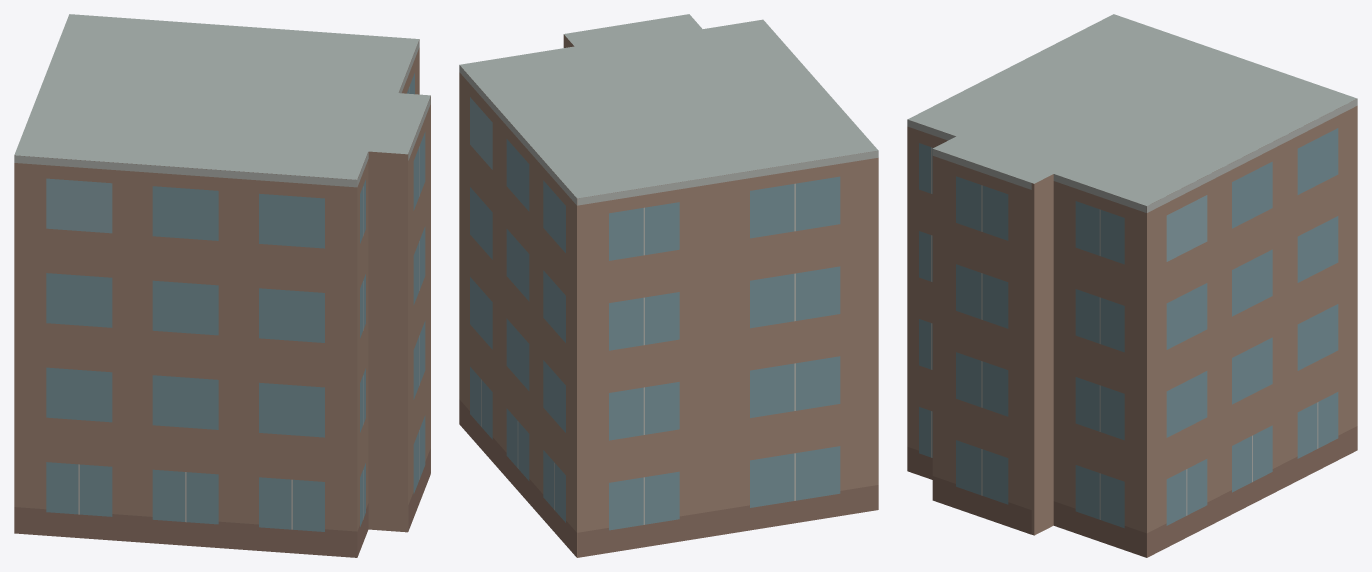
File: survey-upis-32609064.glb
3 renders of one model, left to right at view 1: azimuth 30°, elevation 25°; view 2: azimuth 150°, elevation 25°; view 3: azimuth 270°, elevation 25°, orthographic. The views are drawn at different scales.
Parts seen in each view (by area): view 1: survey-upis-32609064.tmp; view 2: survey-upis-32609064.tmp; view 3: survey-upis-32609064.tmp.
Part boxes in pixels (box(x1,y1,x2,y2)): survey-upis-32609064.tmp: box(14, 14, 430, 557); survey-upis-32609064.tmp: box(459, 14, 878, 557); survey-upis-32609064.tmp: box(907, 14, 1357, 557).
Bounding box in the file's own units: 14.3 × 12.2 × 14.16.
